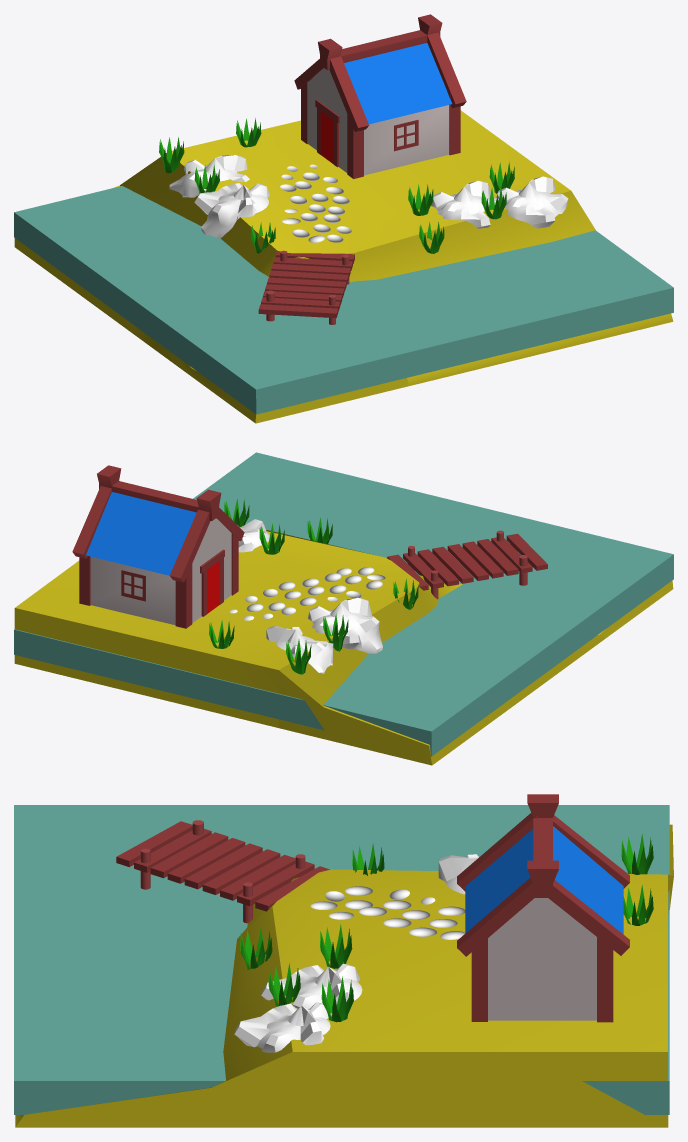
The model's file is lowpoly_lakeside_house.glb.
The picture shows the model from 3 angles, top to bottom: view 1: azimuth 30°, elevation 25°; view 2: azimuth 150°, elevation 25°; view 3: azimuth 270°, elevation 25°; orthographic projection. The views are drawn at different scales.
Parts seen in each view (by area): view 1: Object_3, Object_2, Object_7, Object_9, Object_4, Object_8, Object_10, Object_5; view 2: Object_3, Object_2, Object_7, Object_9, Object_8, Object_4, Object_10, Object_5, Object_6; view 3: Object_3, Object_2, Object_7, Object_4, Object_9, Object_8, Object_10, Object_6.
Part boxes in pixels (x1=…): Object_3: x1=14, y1=186, x2=673, y2=414; Object_2: x1=14, y1=110, x2=673, y2=423; Object_7: x1=258, y1=14, x2=466, y2=318; Object_9: x1=169, y1=155, x2=568, y2=242; Object_4: x1=308, y1=68, x2=449, y2=175; Object_8: x1=344, y1=43, x2=452, y2=124; Object_10: x1=159, y1=118, x2=514, y2=253; Object_5: x1=320, y1=111, x2=333, y2=163; Object_3: x1=14, y1=452, x2=673, y2=756; Object_2: x1=14, y1=526, x2=673, y2=765; Object_7: x1=72, y1=465, x2=547, y2=628; Object_9: x1=219, y1=506, x2=385, y2=673; Object_8: x1=86, y1=492, x2=196, y2=575; Object_4: x1=90, y1=518, x2=231, y2=625; Object_10: x1=209, y1=499, x2=418, y2=674; Object_5: x1=207, y1=560, x2=219, y2=613; Object_6: x1=408, y1=530, x2=527, y2=599; Object_3: x1=14, y1=805, x2=669, y2=1114; Object_2: x1=15, y1=824, x2=673, y2=1127; Object_7: x1=116, y1=794, x2=629, y2=1022; Object_4: x1=488, y1=898, x2=596, y2=1020; Object_9: x1=234, y1=854, x2=478, y2=1052; Object_8: x1=465, y1=826, x2=623, y2=934; Object_10: x1=240, y1=834, x2=653, y2=1022; Object_6: x1=140, y1=820, x2=305, y2=923.
Size of the model in its own units: 4.01 by 1.63 by 4.04.
